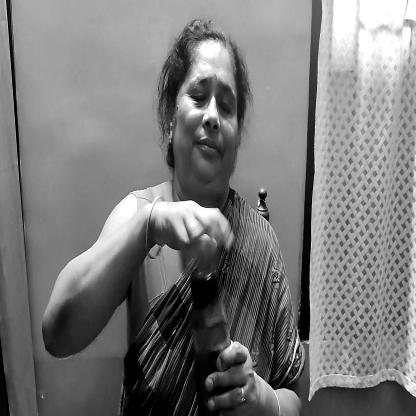Normal: (162, 26, 250, 204)
